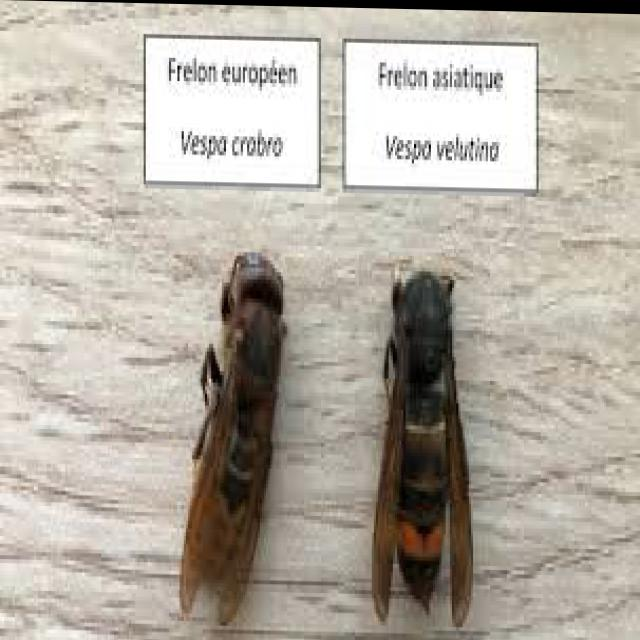Vespa Velutina: (362, 254, 479, 639)
